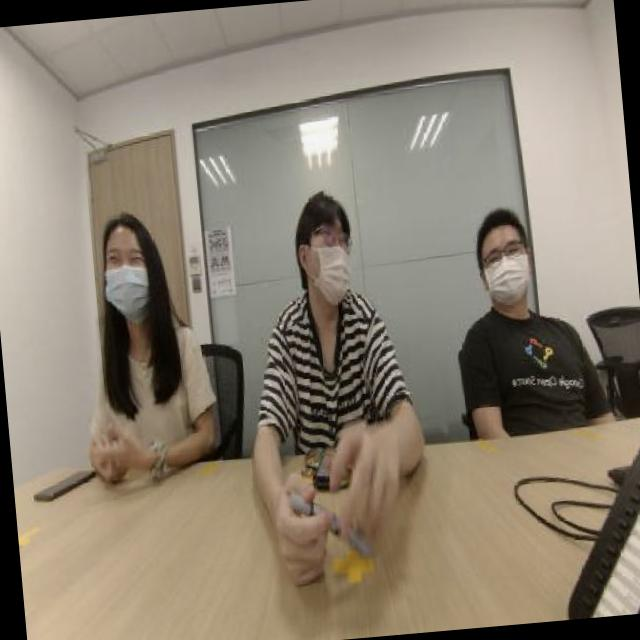Person: (238, 166, 404, 466), (428, 167, 604, 436), (77, 205, 221, 462)
